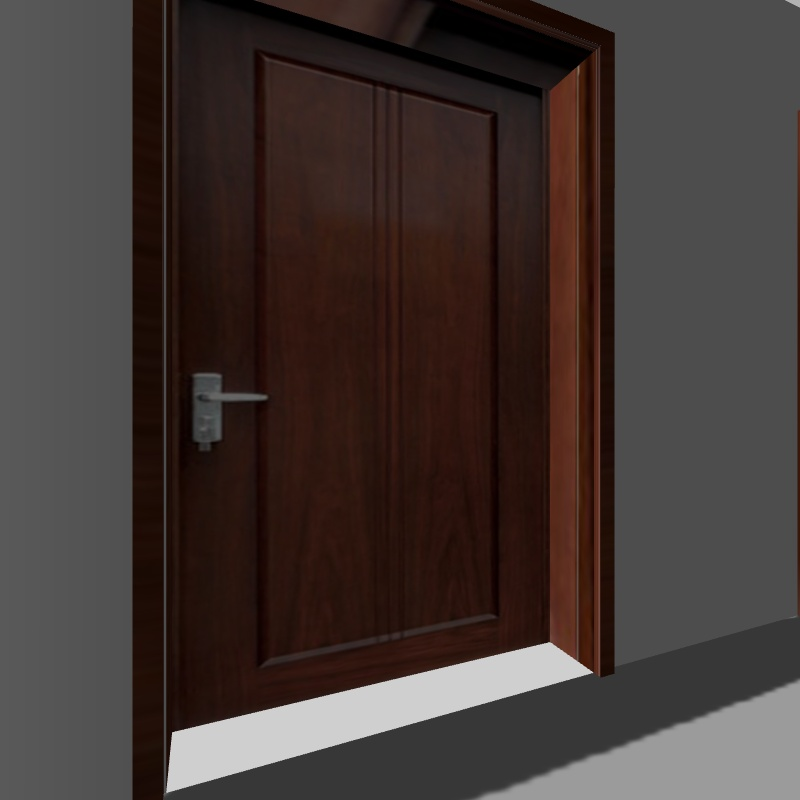handle: (174, 360, 275, 457)
